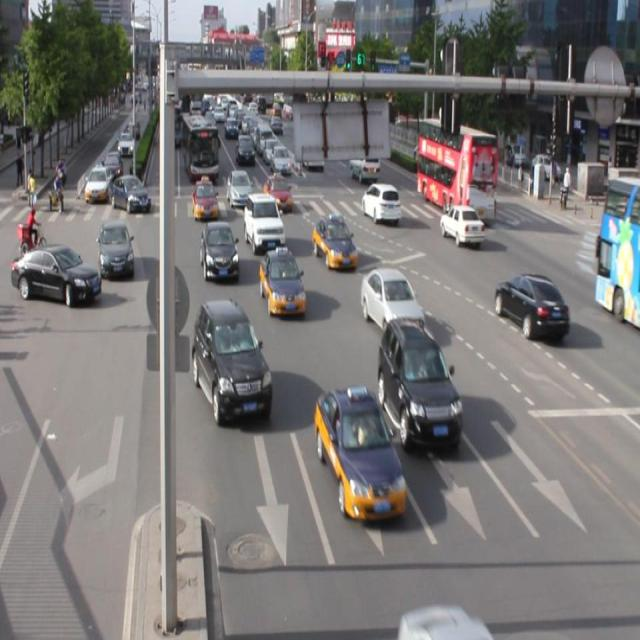car: (315, 384, 406, 519), (376, 316, 461, 447), (194, 299, 272, 425), (492, 271, 569, 338), (360, 265, 424, 338), (259, 246, 305, 317), (244, 192, 284, 254), (312, 216, 357, 269), (202, 221, 240, 282), (98, 219, 134, 279), (439, 204, 483, 244)
van: (592, 174, 640, 331)
